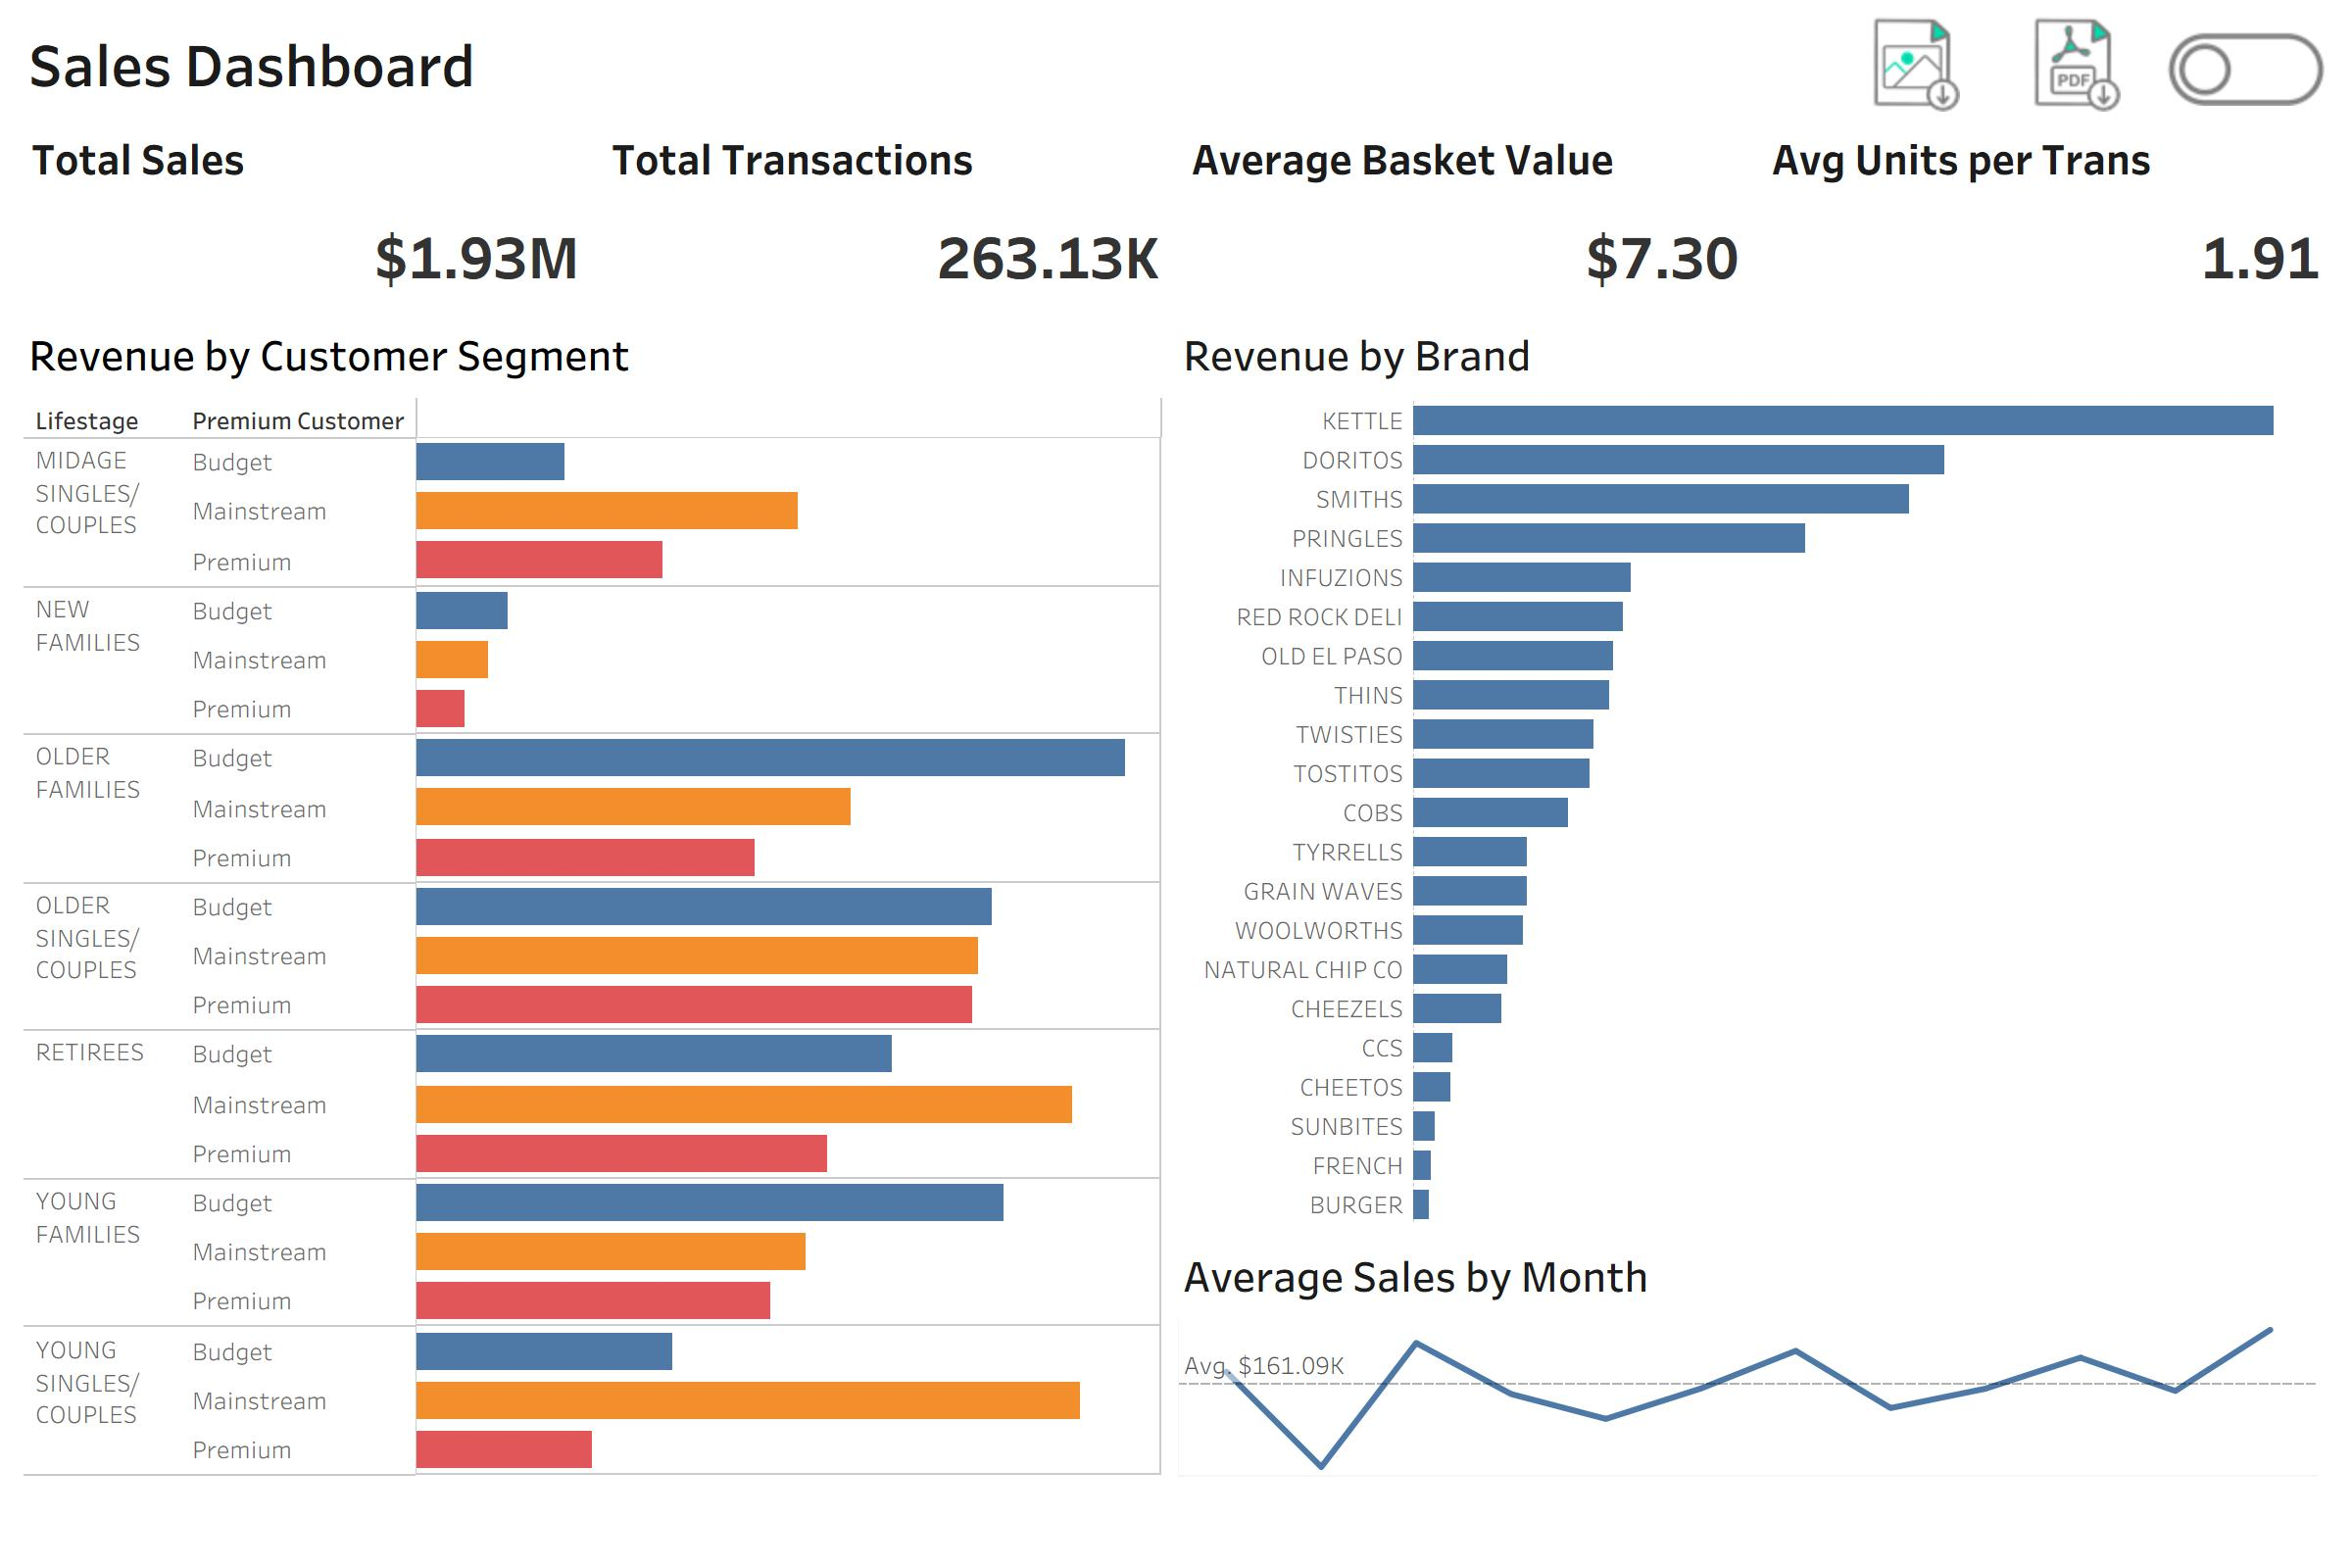

The dashboard page shown, as its layout file describes it:
{"tool":"tableau","page":{"name":"Dashboard 1","canvas":[1200,800],"ordinal":0},"visuals":[{"type":"blank","box":[945,1,247,32]},{"type":"text","box":[8,8,1184,48]},{"type":"dashboard-object","box":[976,8,164,49]},{"type":"dashboard-object","box":[1105,8,81,54]},{"type":"text","box":[945,33,247,26]},{"type":"worksheet","title":"Total Revenue","mark":"Automatic","box":[8,56,296,106]},{"type":"worksheet","title":"Total Trans","mark":"Automatic","box":[304,56,296,106]},{"type":"worksheet","title":"Avg Basket Value","mark":"Automatic","box":[600,56,296,106]},{"type":"worksheet","title":"Avg unit per trans","mark":"Automatic","box":[896,56,296,106]},{"type":"blank","box":[945,59,247,32]},{"type":"text","box":[945,91,247,26]},{"type":"filter","title":"Total Revenue","param":"[federated.0ntbrz712e5t4q158lb011q7vzuq].[none:LIFESTAGE:nk]","box":[945,117,247,52]},{"type":"text","box":[8,162,589,37]},{"type":"text","box":[597,162,589,37]},{"type":"filter","title":"Total Revenue","param":"[federated.0ntbrz712e5t4q158lb011q7vzuq].[none:PREMIUM_CUSTOMER:nk]","box":[945,169,247,52]},{"type":"worksheet","title":"Revenue by Customer Segment","mark":"Bar","rows":["LIFESTAGE","PREMIUM_CUSTOMER"],"cols":["TOT_SALES"],"box":[8,199,589,557.9]},{"type":"worksheet","title":"Revenue by Brand","mark":"Automatic","rows":["BRAND"],"cols":["TOT_SALES"],"box":[597,200,589,432]},{"type":"blank","box":[945,221,247,32]},{"type":"text","box":[945,253,247,26]},{"type":"filter","title":"Total Revenue","param":"[federated.0ntbrz712e5t4q158lb011q7vzuq].[none:PACK_SIZE_LABEL:nk]","box":[945,279,247,52]},{"type":"filter","title":"Total Revenue","param":"[federated.0ntbrz712e5t4q158lb011q7vzuq].[none:PROD_NAME_CLEAN:nk]","box":[945,331,247,52]},{"type":"filter","title":"Total Revenue","param":"[federated.0ntbrz712e5t4q158lb011q7vzuq].[none:PROD_NBR:ok]","box":[945,383,247,52]},{"type":"filter","title":"Total Revenue","param":"[federated.0ntbrz712e5t4q158lb011q7vzuq].[none:STORE_NBR:ok]","box":[945,435,247,52]},{"type":"text","box":[597,632,589,37]},{"type":"worksheet","title":"Sales Trend per Month","mark":"Line","rows":["TOT_SALES"],"cols":["DATE"],"box":[597,669,589,88]}]}

Visuals, with their boxes in screenshot pixels (x1, y1, x2, y2), scaled from the page's 1200x800 canvas onto the 2352x1568 screenshot:
blank: bbox=(1852, 2, 2336, 65)
text: bbox=(16, 16, 2336, 110)
dashboard-object: bbox=(1913, 16, 2234, 112)
dashboard-object: bbox=(2166, 16, 2325, 122)
text: bbox=(1852, 65, 2336, 116)
"Total Revenue" worksheet: bbox=(16, 110, 596, 318)
"Total Trans" worksheet: bbox=(596, 110, 1176, 318)
"Avg Basket Value" worksheet: bbox=(1176, 110, 1756, 318)
"Avg unit per trans" worksheet: bbox=(1756, 110, 2336, 318)
blank: bbox=(1852, 116, 2336, 178)
text: bbox=(1852, 178, 2336, 229)
"Total Revenue" filter: bbox=(1852, 229, 2336, 331)
text: bbox=(16, 318, 1170, 390)
text: bbox=(1170, 318, 2325, 390)
"Total Revenue" filter: bbox=(1852, 331, 2336, 433)
"Revenue by Customer Segment" worksheet (Bar marks): bbox=(16, 390, 1170, 1484)
"Revenue by Brand" worksheet: bbox=(1170, 392, 2325, 1239)
blank: bbox=(1852, 433, 2336, 496)
text: bbox=(1852, 496, 2336, 547)
"Total Revenue" filter: bbox=(1852, 547, 2336, 649)
"Total Revenue" filter: bbox=(1852, 649, 2336, 751)
"Total Revenue" filter: bbox=(1852, 751, 2336, 853)
"Total Revenue" filter: bbox=(1852, 853, 2336, 955)
text: bbox=(1170, 1239, 2325, 1311)
"Sales Trend per Month" worksheet (Line marks): bbox=(1170, 1311, 2325, 1484)
